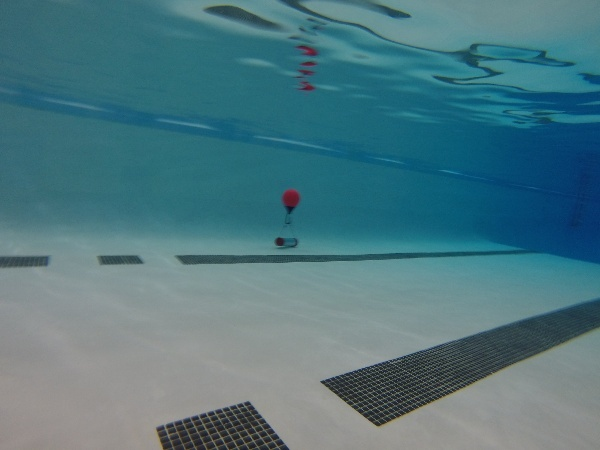buoy_red: (280, 188, 300, 213)
